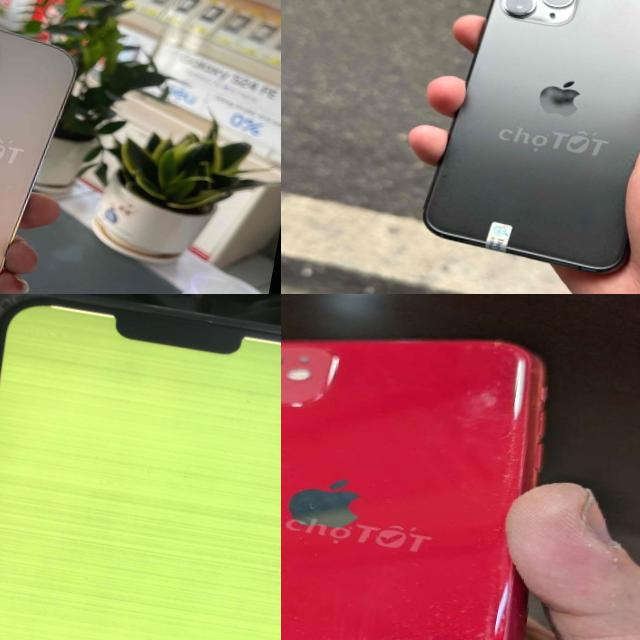gen_11: (281, 294, 585, 640), (407, 0, 640, 290)
gen_12_13: (0, 294, 281, 640)
gen_14: (0, 0, 67, 294)
